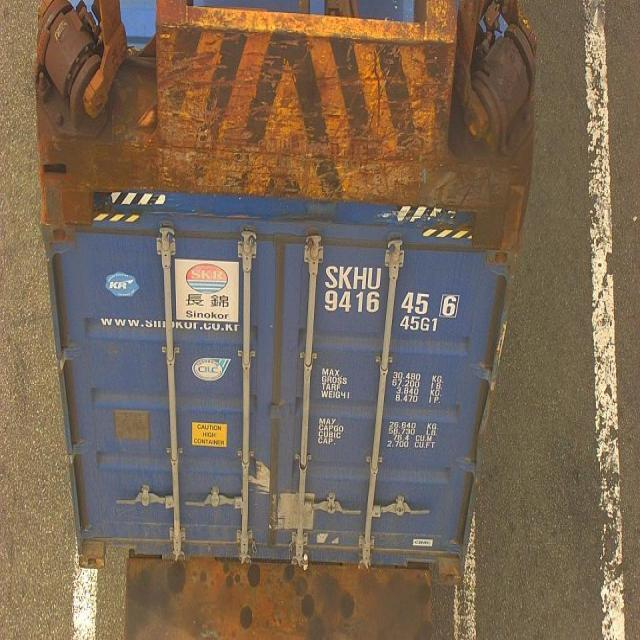ISO: (398, 315, 438, 333)
container_number: (324, 264, 462, 316)
